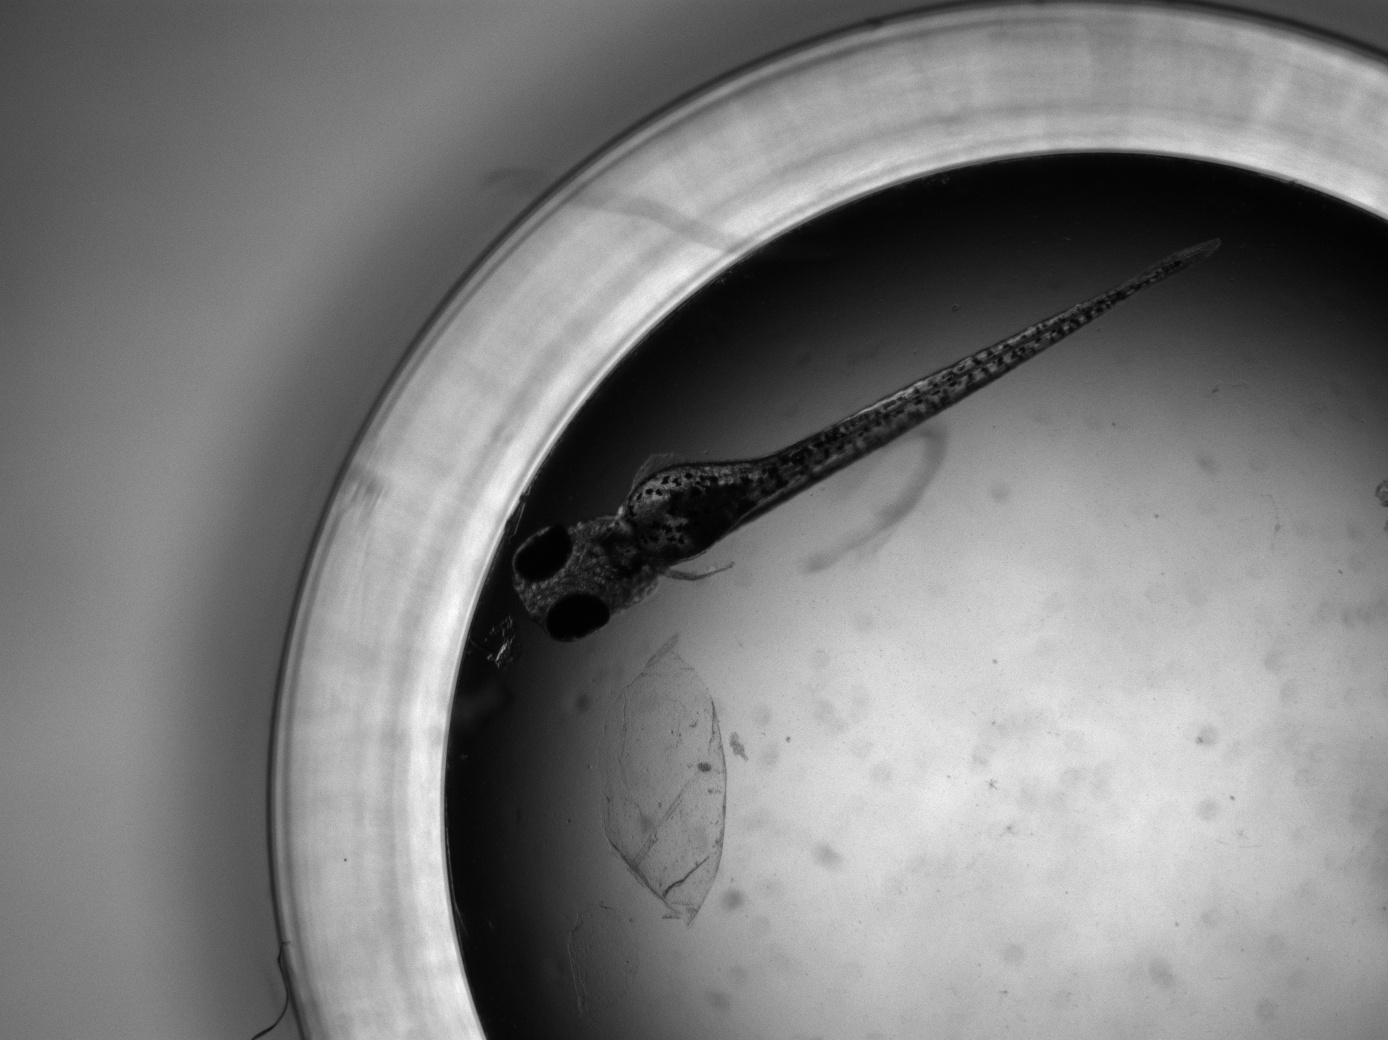debris: (593, 633, 726, 926)
embryo: (513, 231, 1231, 645)
eye: (542, 591, 613, 645), (513, 524, 574, 584)
yolksac: (624, 461, 746, 564)
